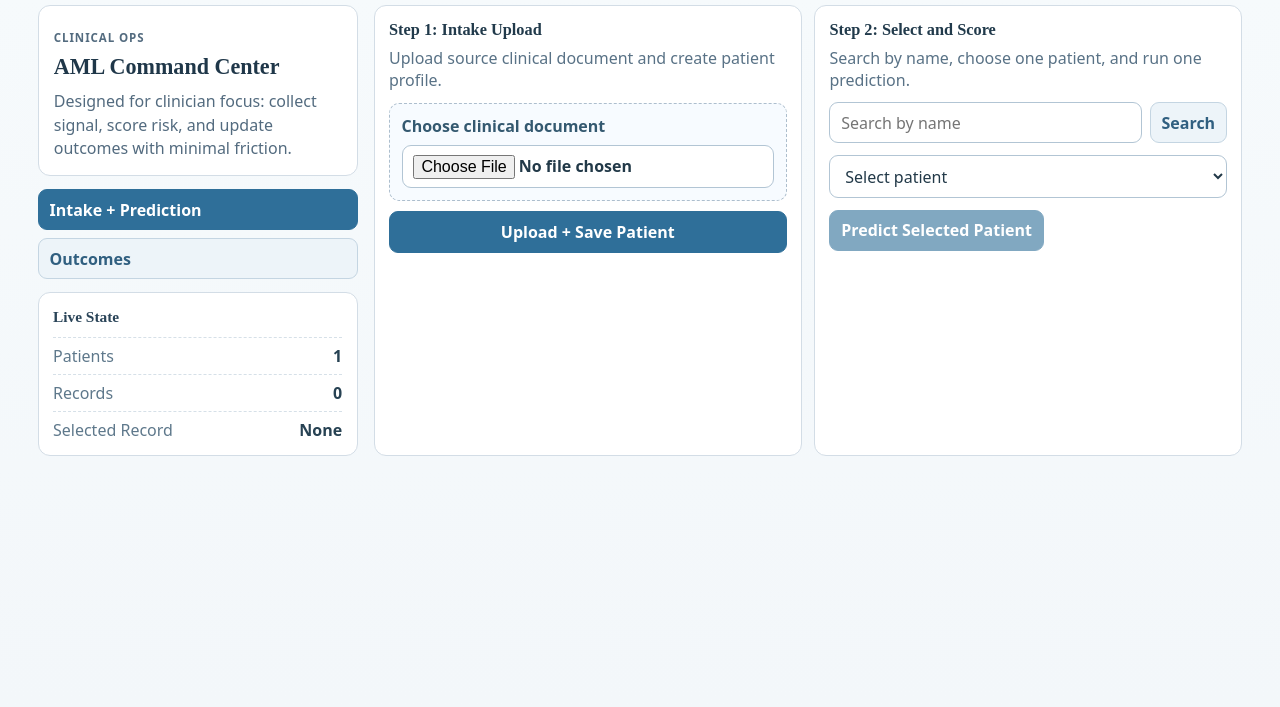
it: App workflow › searches patients and runs single prediction
Step 1. Type "stone" into the field with placeholder "Search by name" → point(986, 123), box [829, 102, 1142, 144]
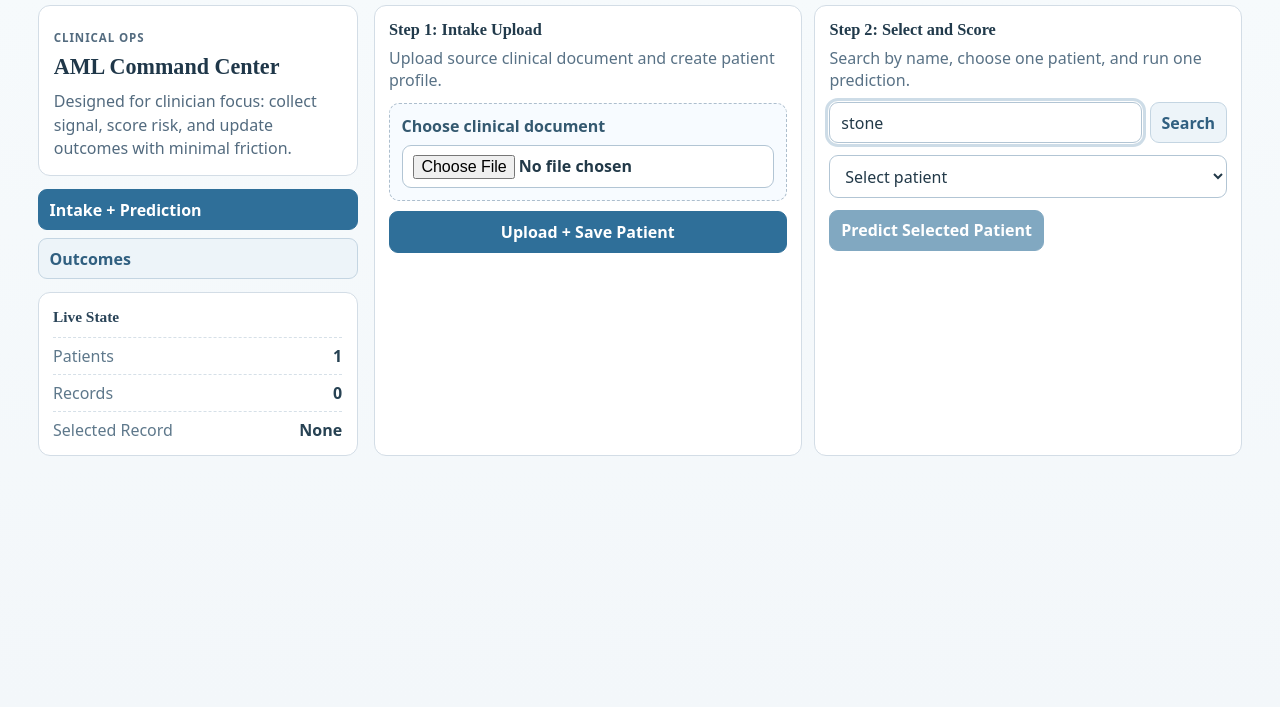
Step 2. Click the button "Search" → point(1188, 123), box [1150, 102, 1227, 144]
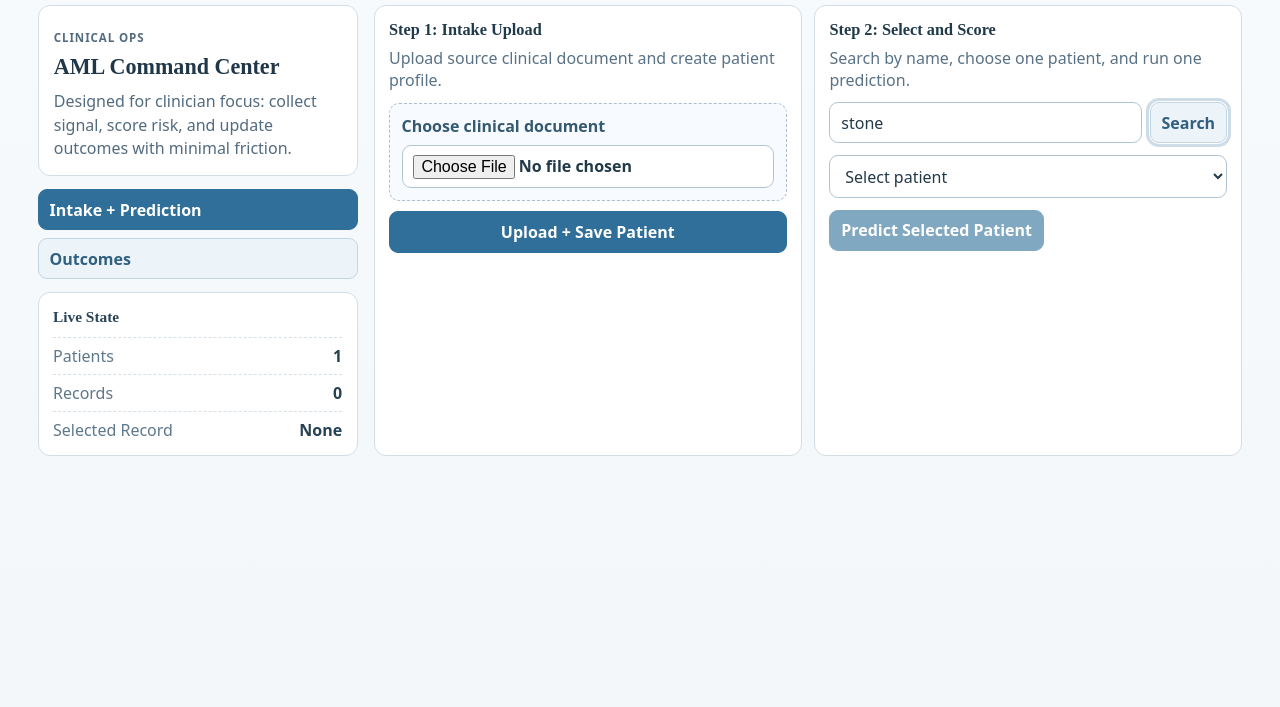
Step 3. Select "#2 - Bob Stone" in the dropdown → point(1028, 177), box [829, 155, 1227, 198]
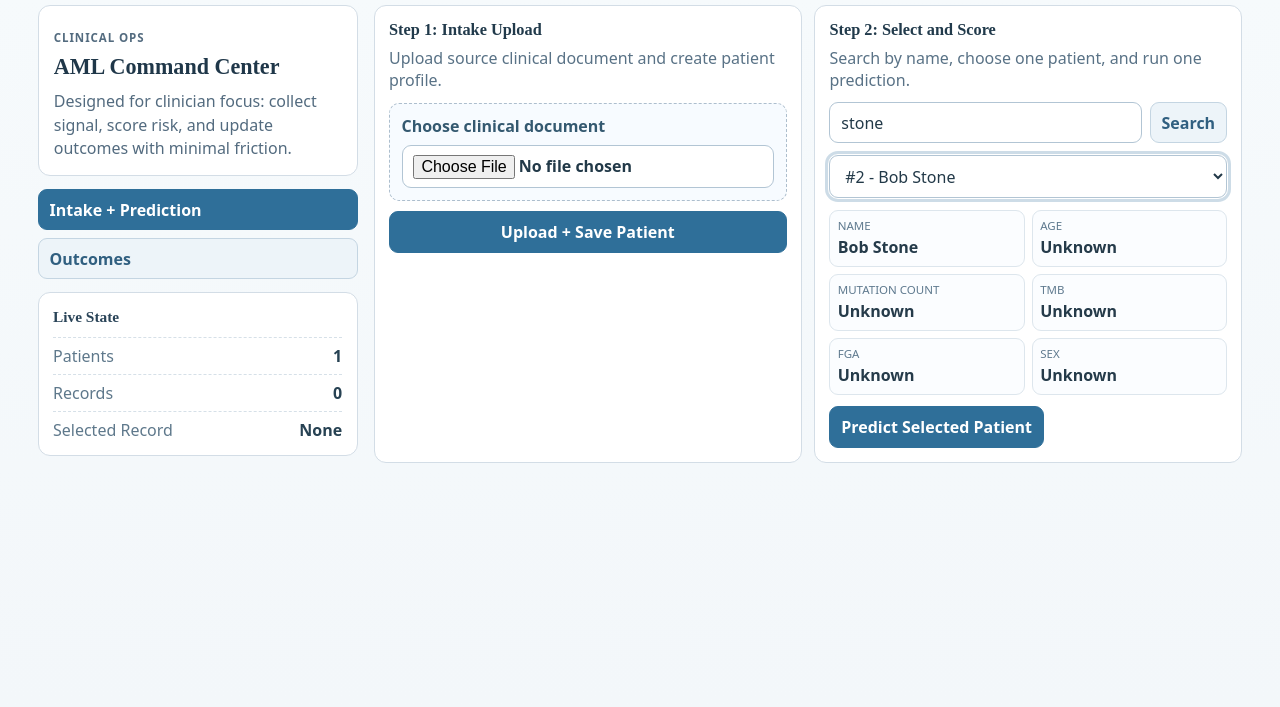
Step 4. Click the button "Predict Selected Patient" → point(937, 427), box [829, 406, 1044, 448]
(page scrolled)
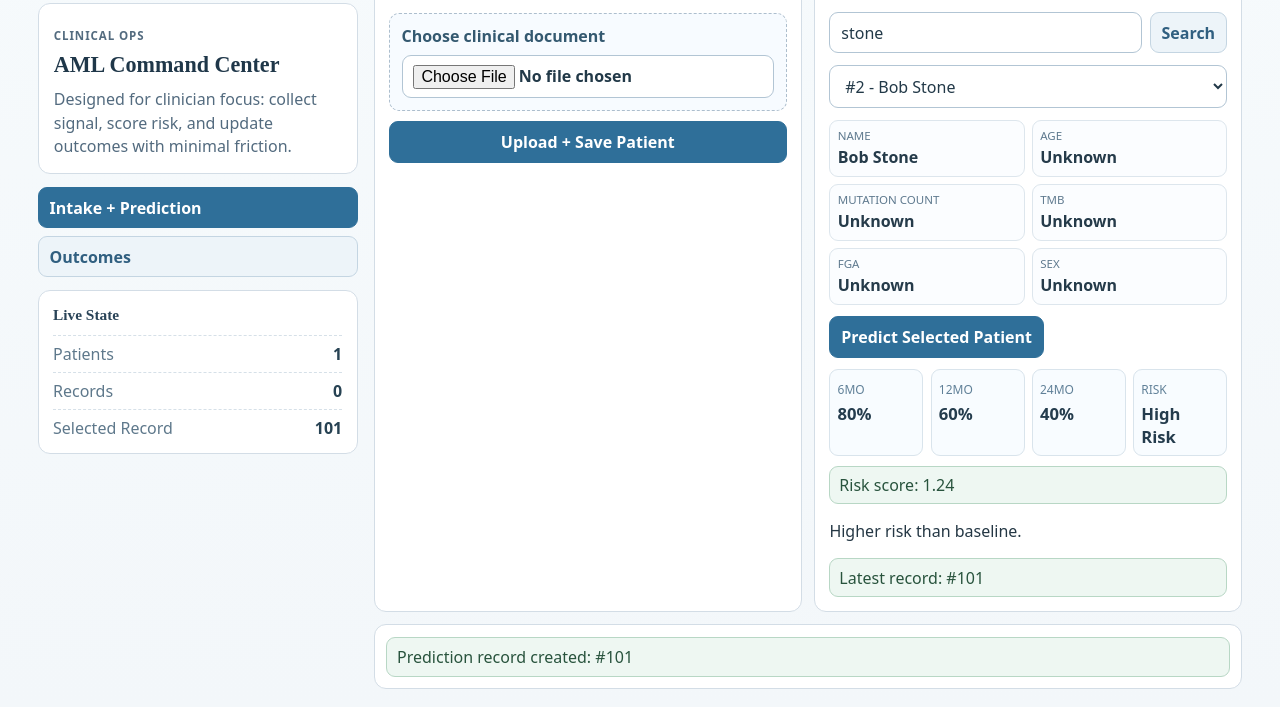
Now the text "Prediction record created: #101" is shown, box [386, 637, 1230, 677]
